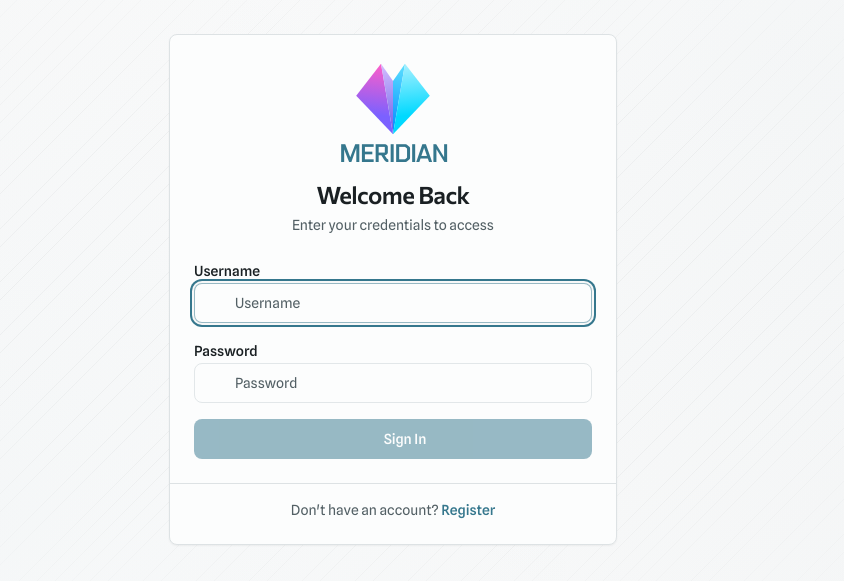
Test: LoginPage login ownership › keeps a current invalid-credential failure visible
Type "alice" into the field labelled "Username" at (393, 302), box [194,282,592,322]
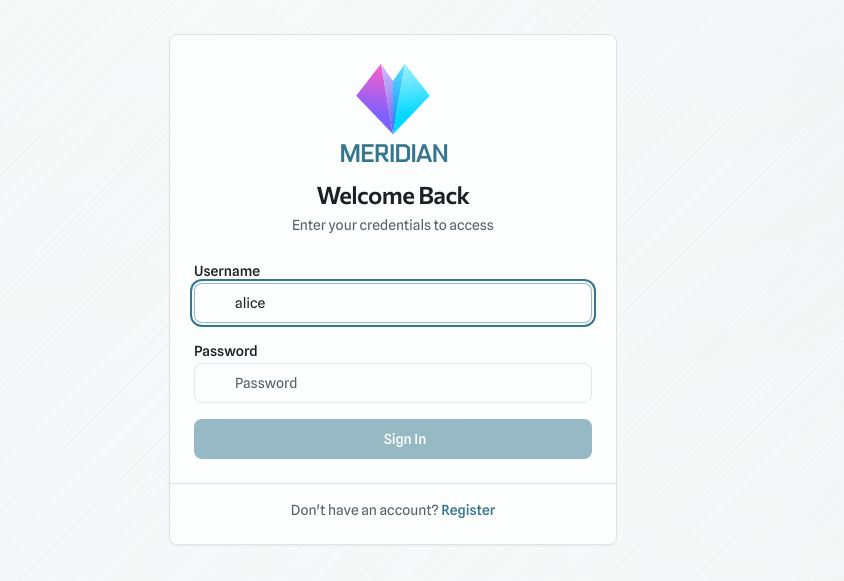
Type "secret" into the password field labelled "Password" at (393, 382), box [194,362,592,402]
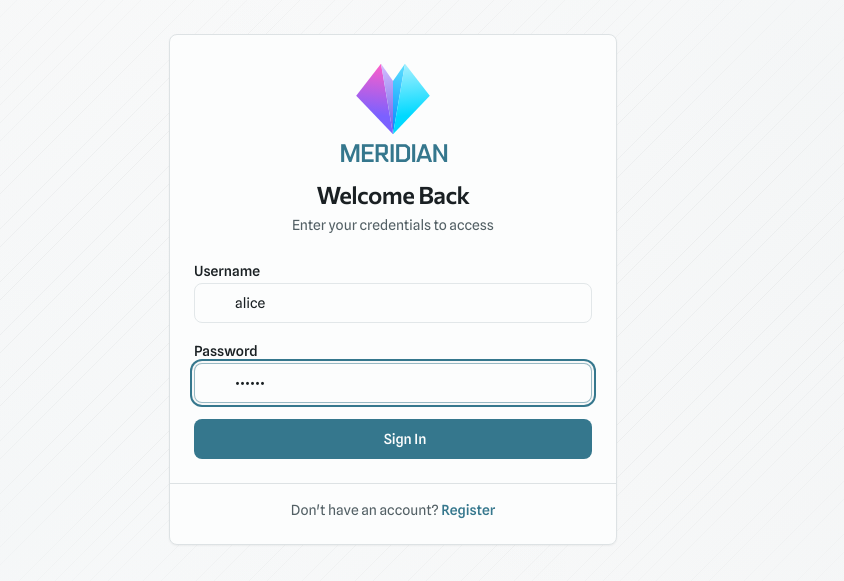
Click the button "Sign In" at (393, 438), box [194,418,592,458]
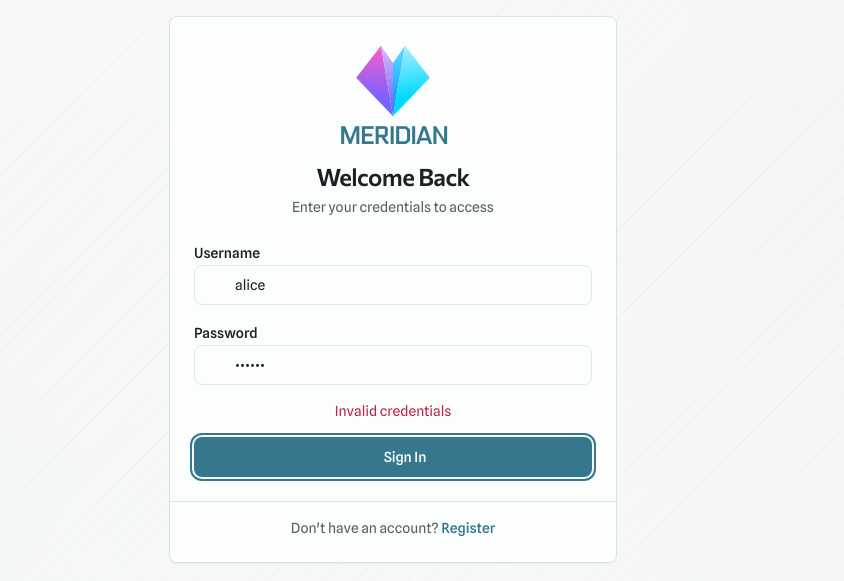
Check: the text "Invalid credentials" is shown, box [335,402,451,418]
